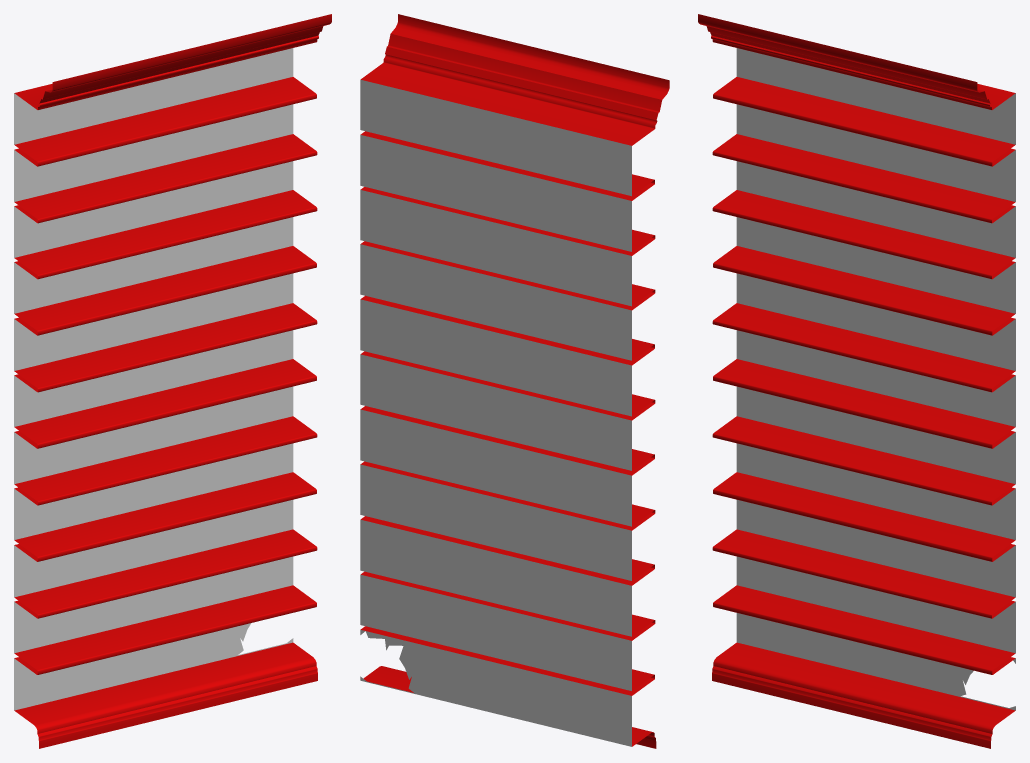
The model's file is SM_bookshelf_broken.FBX.
3 renders of one model, left to right at view 1: azimuth 30°, elevation 25°; view 2: azimuth 150°, elevation 25°; view 3: azimuth 330°, elevation 25°, orthographic. The views are drawn at different scales.
Parts seen in each view (by area): view 1: SM_bookshelf_broken; view 2: SM_bookshelf_broken; view 3: SM_bookshelf_broken.
Boxes of the visible parts, <box> form: SM_bookshelf_broken: <box>14,14,331,748</box>; SM_bookshelf_broken: <box>360,14,669,748</box>; SM_bookshelf_broken: <box>698,14,1015,748</box>.
Size of what is drawn, in the model's own units: 196 by 46.99 by 455.
